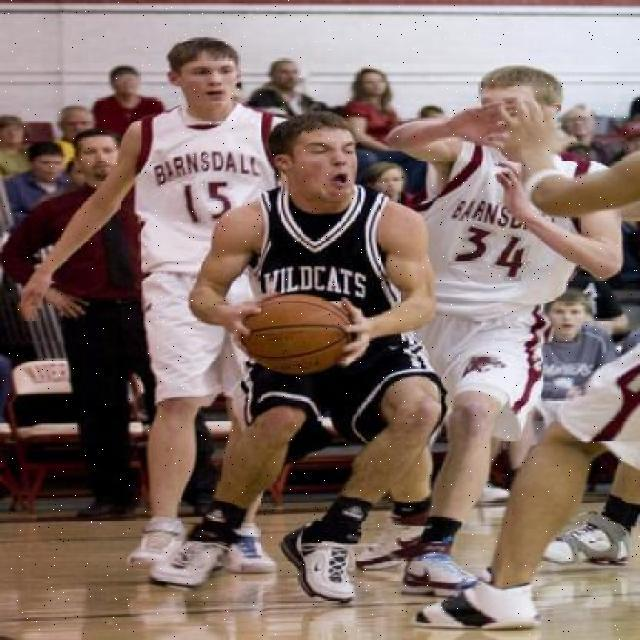ball: (240, 293, 353, 375)
